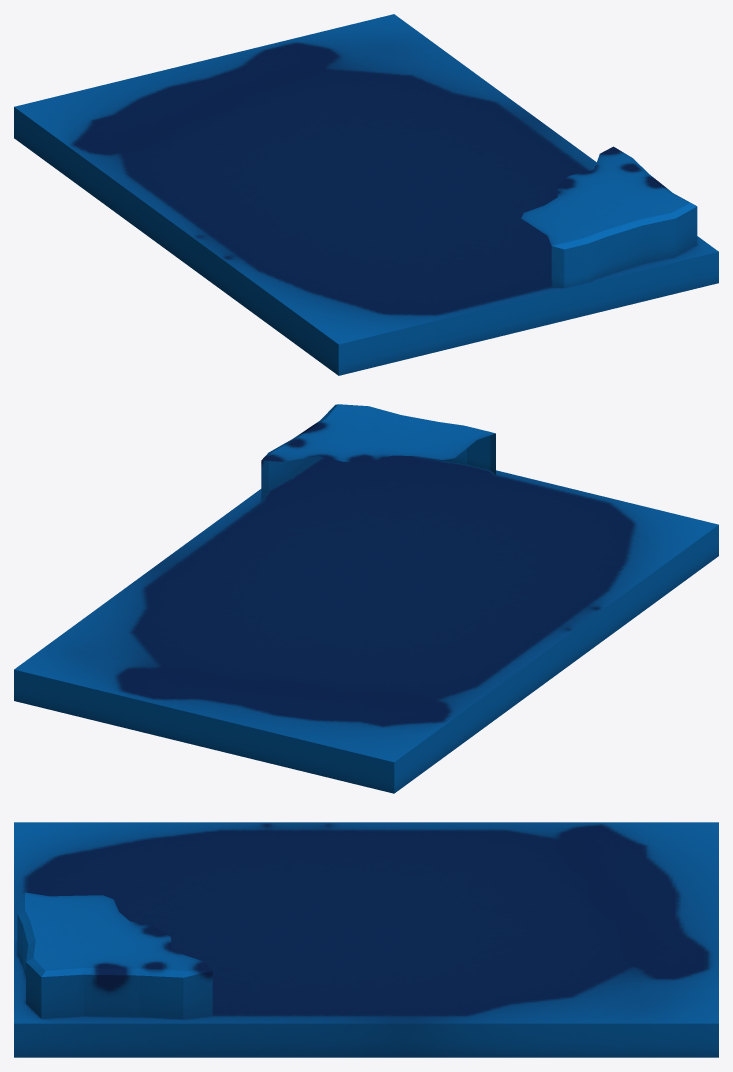
Rendered from Water_01.FBX.
3 renders of one model, top to bottom at view 1: azimuth 30°, elevation 25°; view 2: azimuth 150°, elevation 25°; view 3: azimuth 270°, elevation 25°, orthographic. The views are drawn at different scales.
Visible parts, largest first — view 1: Water_01; view 2: Water_01; view 3: Water_01.
Part boxes in pixels (x1,y1,x2,y2): Water_01: (14, 14, 718, 375); Water_01: (14, 404, 718, 793); Water_01: (14, 822, 718, 1057).
Bounding box in the file's own units: 19.02 × 3.5 × 28.14.
